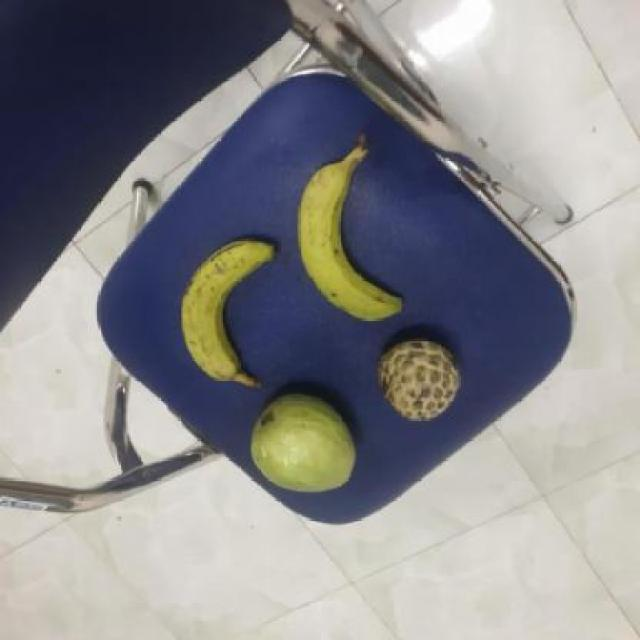banana: (299, 153, 410, 322), (180, 242, 283, 386)
guava: (249, 390, 363, 492)
sugar apple: (381, 338, 465, 422)
